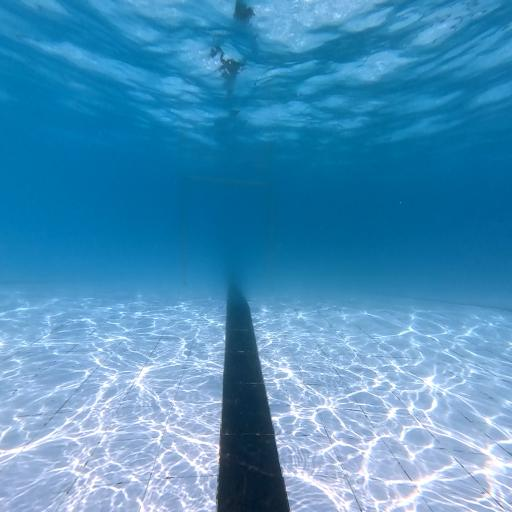gate: (181, 180, 275, 300)
